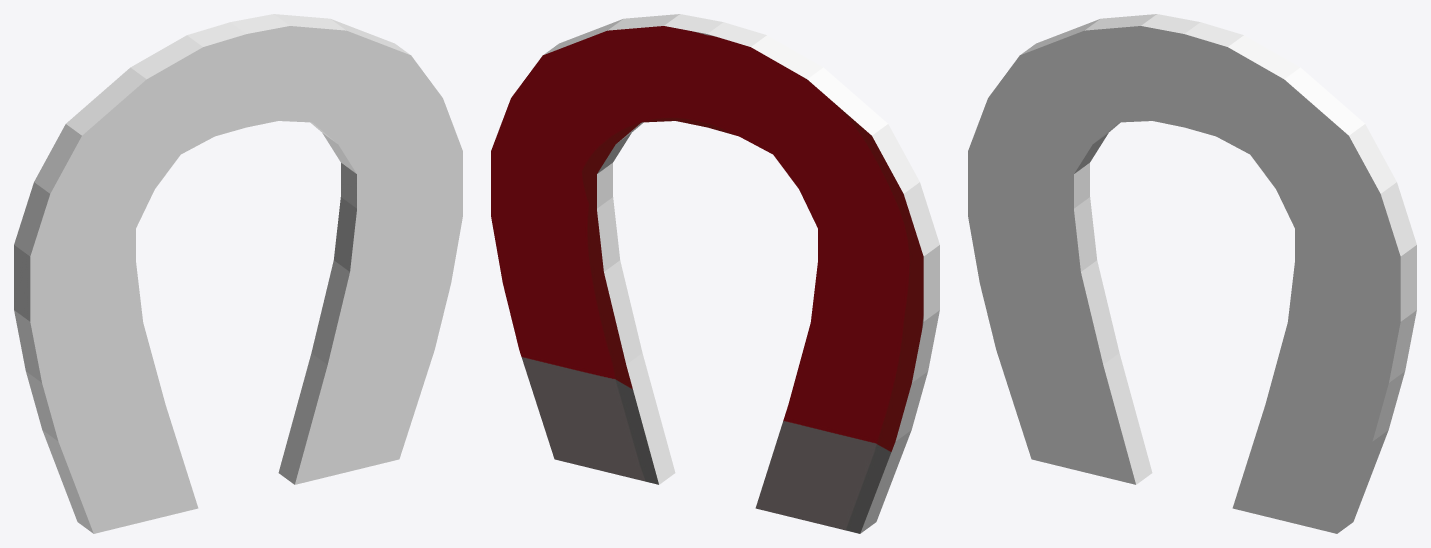
Rendered from aimant.obj.
The picture shows the model from 3 angles, left to right: view 1: azimuth 30°, elevation 25°; view 2: azimuth 150°, elevation 25°; view 3: azimuth 330°, elevation 25°; orthographic projection.
Parts seen in each view (by area): view 1: Plane.001; view 2: Plane.001; view 3: Plane.001.
Part boxes in pixels (left/top/right/bottom): Plane.001: left=14, top=14, right=462, bottom=533; Plane.001: left=491, top=14, right=939, bottom=533; Plane.001: left=968, top=14, right=1416, bottom=533.
Size of the model in its own units: 0.7187 by 0.7343 by 0.0469.
